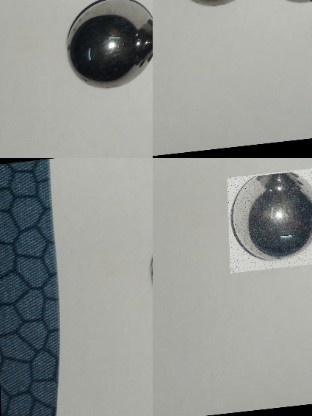ironball: (226, 171, 311, 276), (65, 1, 152, 85)
